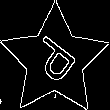P_SE: (25, 31, 84, 90)
